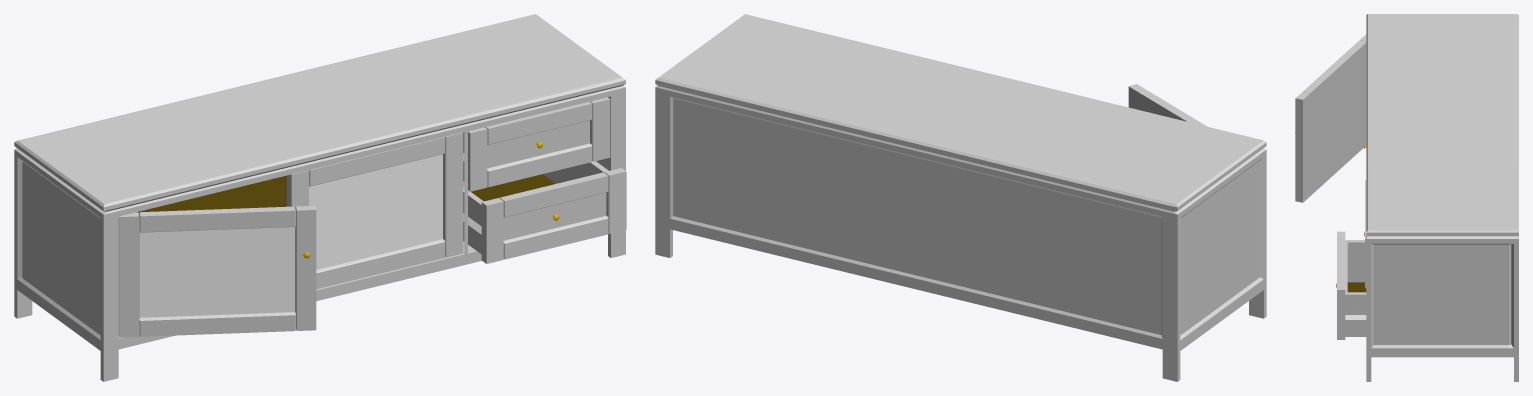
The model's file is openDrawers.gltf.
3 renders of one model, left to right at view 1: azimuth 30°, elevation 25°; view 2: azimuth 150°, elevation 25°; view 3: azimuth 270°, elevation 25°, orthographic. The views are drawn at different scales.
Visible parts, largest first — view 1: rack, doorLeft, doorRight, drawerDown, drawerUp, shelf; view 2: rack, doorLeft; view 3: rack, doorLeft, drawerDown, drawerUp.
Boxes of the visible parts, x1,y1,x2,y2 form: rack: (14, 14, 625, 381); doorLeft: (118, 205, 316, 337); doorRight: (287, 132, 463, 289); drawerDown: (463, 161, 626, 263); drawerUp: (463, 97, 610, 191); shelf: (137, 175, 286, 212); rack: (655, 14, 1266, 381); doorLeft: (1128, 84, 1206, 126); rack: (1366, 14, 1518, 381); doorLeft: (1295, 34, 1366, 202); drawerDown: (1336, 231, 1366, 339); drawerUp: (1364, 180, 1366, 288).
Size of the model in its own units: 15.2 by 4.91 by 6.6.
